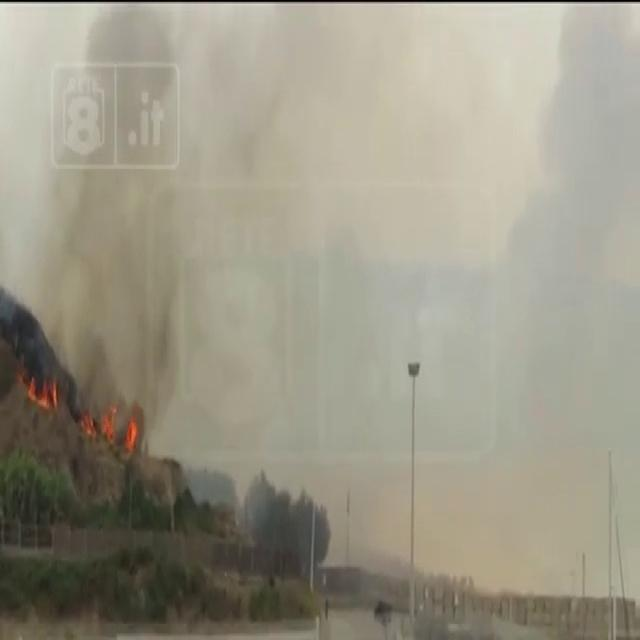Fire: (80, 408, 138, 454), (21, 362, 58, 416)
Smoke: (62, 170, 175, 404)
